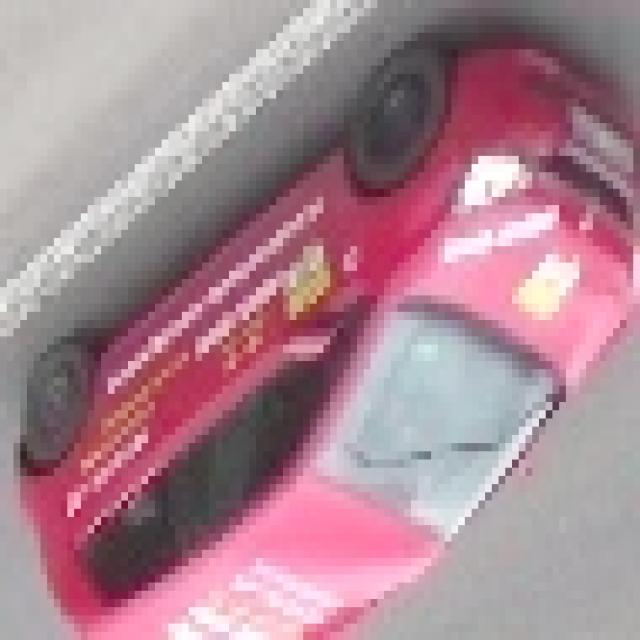red: (9, 41, 640, 640)
